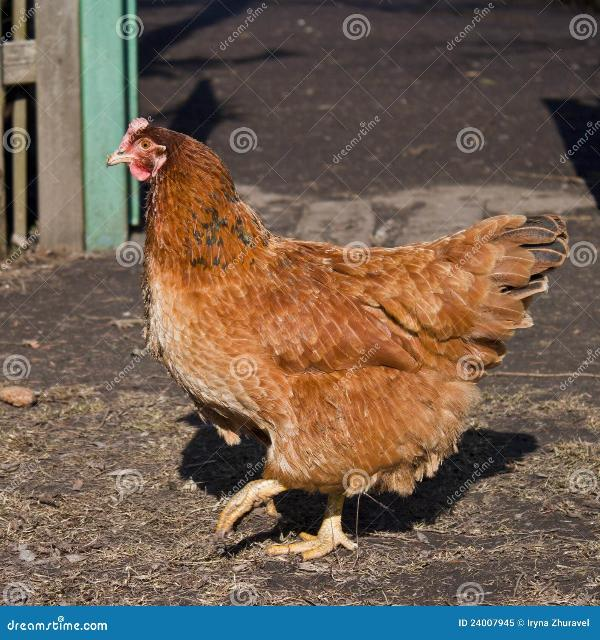Chicken: (105, 116, 571, 561)
